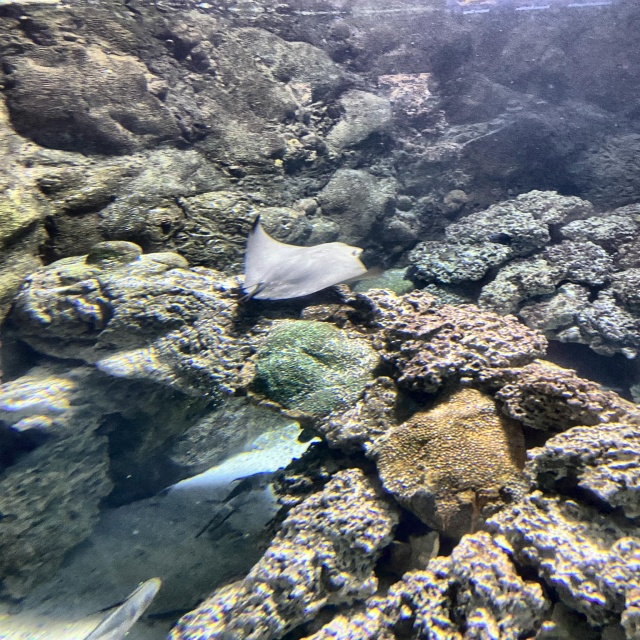fish: (83, 577, 162, 639), (201, 471, 275, 535)
stingray: (242, 214, 367, 300)
